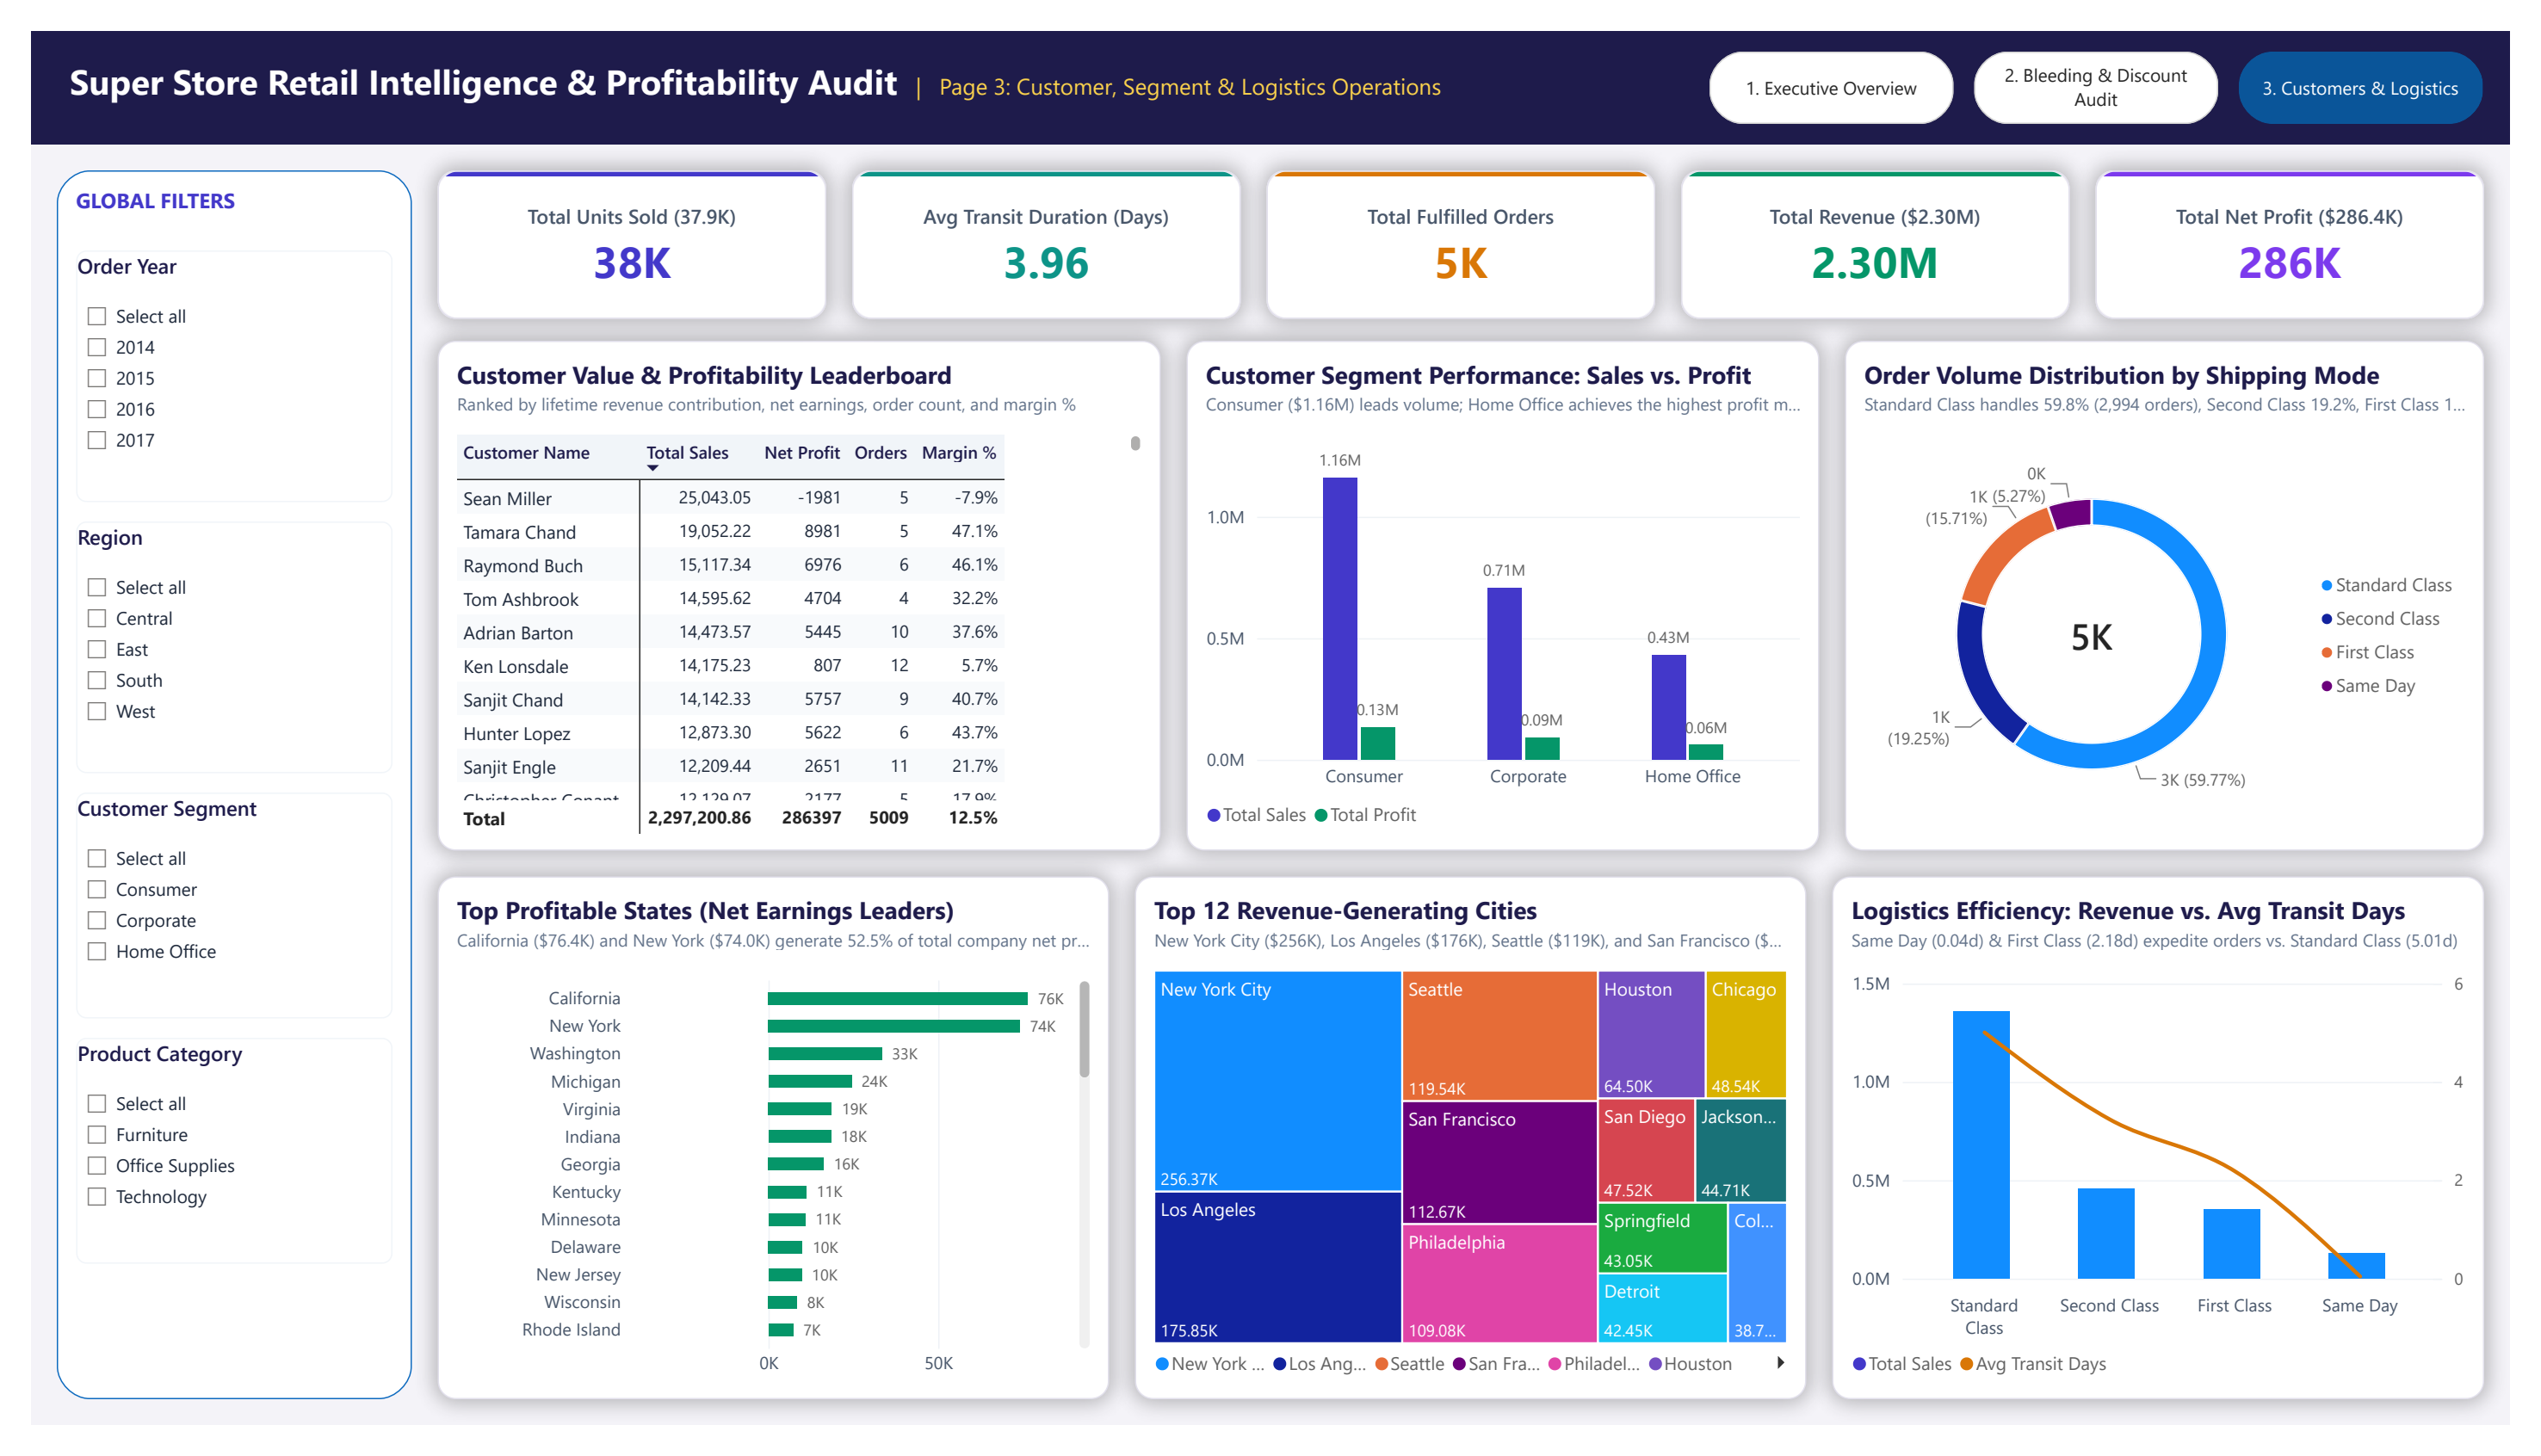

The dashboard page shown, as its layout file describes it:
{"tool":"powerbi","page":{"name":"3. Customers & Logistics","canvas":[1920,1080],"ordinal":2},"visuals":[{"type":"shape","box":[0,0,1920,88],"z":0},{"type":"shape","box":[20,108,275,952],"z":1000},{"type":"textbox","box":[20,6,1260,78],"z":2000},{"type":"textbox","box":[35,120,245,42],"z":2500},{"type":"pivotTable","title":"Customer Value & Profitability Leaderboard","fields":{"Rows":["Clean_Super_Store.Customer Name"],"Values":["Measures_.Total Sales","Measures_.Total Profit","Measures_.Total Orders","Measures_.Profit Margin"]},"box":[315,240,560,395],"z":4000},{"type":"clusteredColumnChart","title":"Customer Segment Performance: Sales vs. Profit","fields":{"Category":["Clean_Super_Store.Segment"],"Y":["Measures_.Total Sales","Measures_.Total Profit"]},"box":[895,240,490,395],"z":4500},{"type":"donutChart","title":"Order Volume Distribution by Shipping Mode","fields":{"Category":["Clean_Super_Store.Ship Mode"],"Y":["Measures_.Total Orders"]},"box":[1405,240,495,395],"z":5000},{"type":"clusteredBarChart","title":"Top Profitable States (Net Earnings Leaders)","fields":{"Category":["Clean_Super_Store.State"],"Y":["Measures_.Total Profit"]},"box":[315,655,520,405],"z":5200},{"type":"treemap","title":"Top 12 Revenue-Generating Cities","fields":{"Group":["Clean_Super_Store.City"],"Values":["Measures_.Total Sales"]},"box":[855,655,520,405],"z":5400},{"type":"lineClusteredColumnComboChart","title":"Logistics Efficiency: Revenue vs. Avg Transit Days","fields":{"Category":["Clean_Super_Store.Ship Mode"],"Y":["Measures_.Total Sales"],"Y2":["Avg(Clean_Super_Store.Shipping Duration)"]},"box":[1395,655,505,405],"z":5600},{"type":"cardVisual","title":"Total Units Sold (37.9K)","fields":{"Data":["Sum(Clean_Super_Store.Quantity)"]},"box":[315,108,301,115],"z":6000},{"type":"cardVisual","title":"Avg Transit Duration (Days)","fields":{"Data":["Avg(Clean_Super_Store.Shipping Duration)"]},"box":[636,108,301,115],"z":6500},{"type":"cardVisual","title":"Total Fulfilled Orders","fields":{"Data":["Measures_.Total Orders"]},"box":[957,108,301,115],"z":7000},{"type":"cardVisual","title":"Total Revenue ($2.30M)","fields":{"Data":["Measures_.Total Sales"]},"box":[1278,108,301,115],"z":7500},{"type":"cardVisual","title":"Total Net Profit ($286.4K)","fields":{"Data":["Measures_.Total Profit"]},"box":[1599,108,301,115],"z":8000},{"type":"slicer","title":"Order Year","fields":{"Values":["Clean_Super_Store.Order Year"]},"box":[35,170,245,195],"z":11000},{"type":"slicer","title":"Region","fields":{"Values":["Clean_Super_Store.Region"]},"box":[35,380,245,195],"z":11100},{"type":"slicer","title":"Customer Segment","fields":{"Values":["Clean_Super_Store.Segment"]},"box":[35,590,245,175],"z":11200},{"type":"slicer","title":"Product Category","fields":{"Values":["Clean_Super_Store.Category"]},"box":[35,780,245,175],"z":11300},{"type":"pageNavigator","box":[1300,16,600,56],"z":15000}]}

Visuals, with their boxes in screenshot pixels (x1, y1, x2, y2), scaled from the page's 1920x1080 canvas onto the 2541x1456 screenshot:
shape: locate(0, 0, 2540, 119)
shape: locate(27, 145, 391, 1429)
textbox: locate(27, 8, 1694, 114)
textbox: locate(46, 162, 370, 219)
"Customer Value & Profitability Leaderboard" pivotTable: locate(417, 324, 1158, 856)
"Customer Segment Performance: Sales vs. Profit" clusteredColumnChart: locate(1184, 324, 1833, 856)
"Order Volume Distribution by Shipping Mode" donutChart: locate(1859, 324, 2514, 856)
"Top Profitable States (Net Earnings Leaders)" clusteredBarChart: locate(417, 883, 1105, 1429)
"Top 12 Revenue-Generating Cities" treemap: locate(1132, 883, 1820, 1429)
"Logistics Efficiency: Revenue vs. Avg Transit Days" lineClusteredColumnComboChart: locate(1846, 883, 2514, 1429)
"Total Units Sold (37.9K)" cardVisual: locate(417, 145, 815, 300)
"Avg Transit Duration (Days)" cardVisual: locate(842, 145, 1240, 300)
"Total Fulfilled Orders" cardVisual: locate(1266, 145, 1665, 300)
"Total Revenue ($2.30M)" cardVisual: locate(1691, 145, 2090, 300)
"Total Net Profit ($286.4K)" cardVisual: locate(2116, 145, 2514, 300)
"Order Year" slicer: locate(46, 229, 370, 492)
"Region" slicer: locate(46, 512, 370, 775)
"Customer Segment" slicer: locate(46, 795, 370, 1031)
"Product Category" slicer: locate(46, 1052, 370, 1287)
pageNavigator: locate(1721, 22, 2514, 97)
